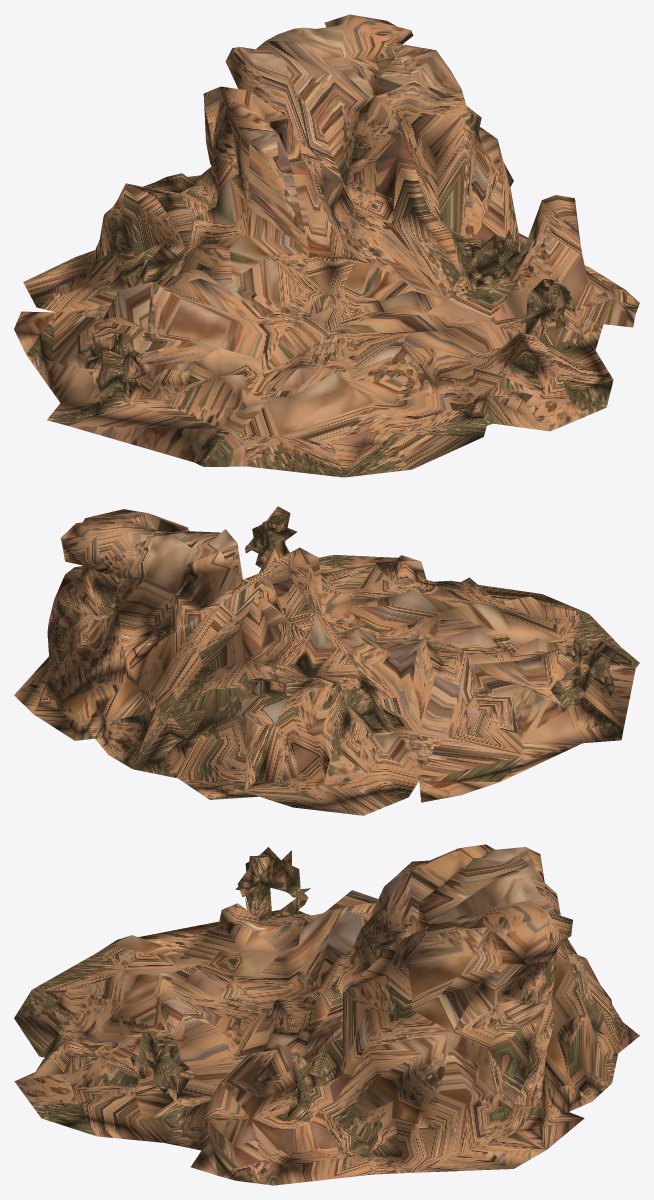
The model's file is Desert_Rock_Formation.glb.
The picture shows the model from 3 angles, top to bottom: view 1: azimuth 30°, elevation 25°; view 2: azimuth 150°, elevation 25°; view 3: azimuth 270°, elevation 25°; orthographic projection. The views are drawn at different scales.
Parts seen in each view (by area): view 1: Desert_Rock_Formation; view 2: Desert_Rock_Formation; view 3: Desert_Rock_Formation.
Boxes of the visible parts, box(x1,y1,x2,y2) form: Desert_Rock_Formation: box(14, 14, 639, 477); Desert_Rock_Formation: box(14, 506, 639, 815); Desert_Rock_Formation: box(14, 844, 639, 1185).
Size of the model in its own units: 1.86 by 0.6757 by 1.78.
1 material, 1 textured.
